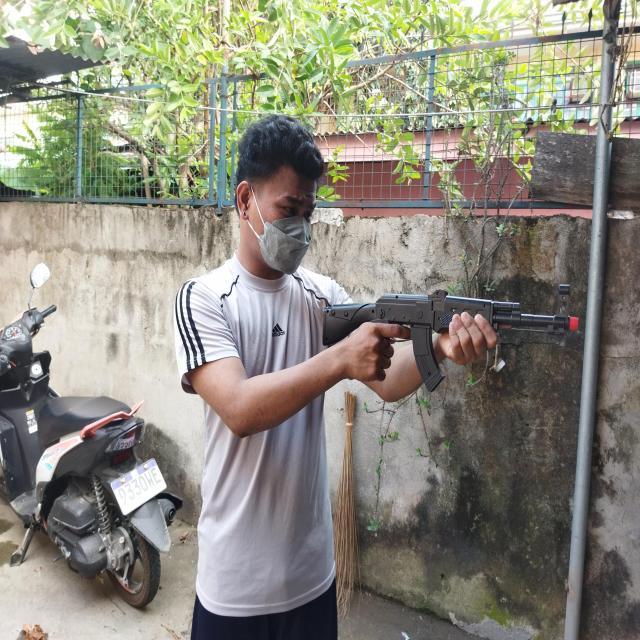rifle: (324, 273, 579, 392)
